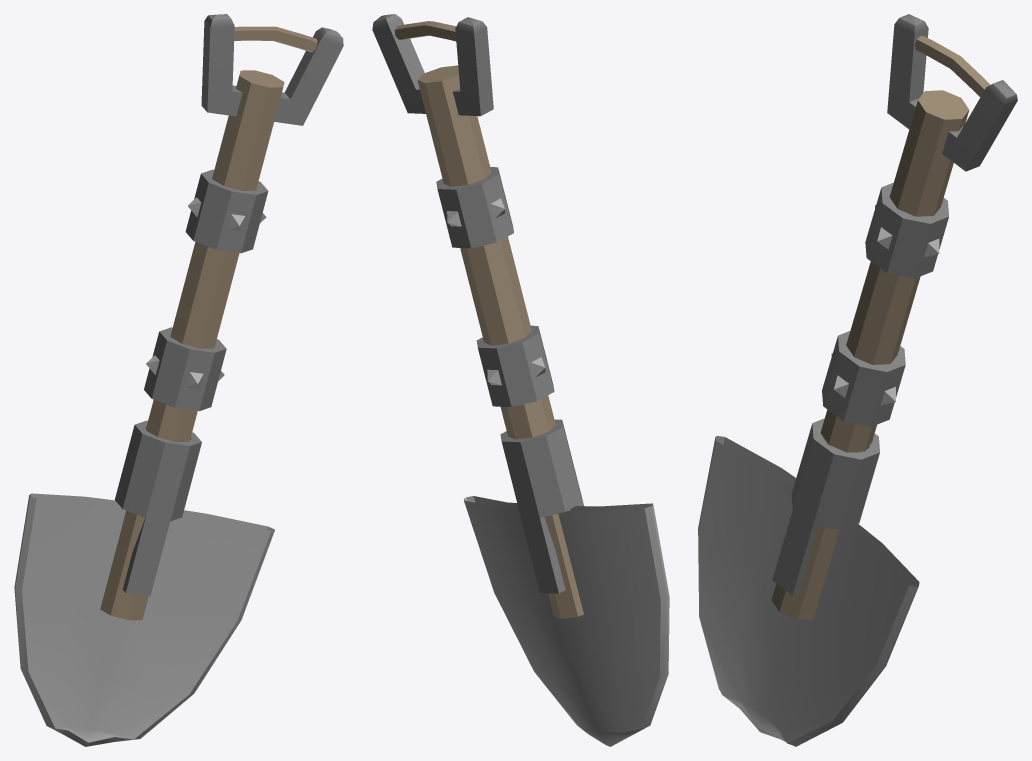
File: pelle.fbx
The picture shows the model from 3 angles, left to right: view 1: azimuth 30°, elevation 25°; view 2: azimuth 150°, elevation 25°; view 3: azimuth 330°, elevation 25°; orthographic projection. The views are drawn at different scales.
Parts seen in each view (by area): view 1: pelle; view 2: pelle; view 3: pelle.
Boxes of the visible parts, x1=… form: pelle: x1=14, y1=14, x2=343, y2=746; pelle: x1=372, y1=14, x2=669, y2=746; pelle: x1=698, y1=14, x2=1017, y2=746.
Bounding box in the file's own units: 1.53 × 3.29 × 0.3608.
